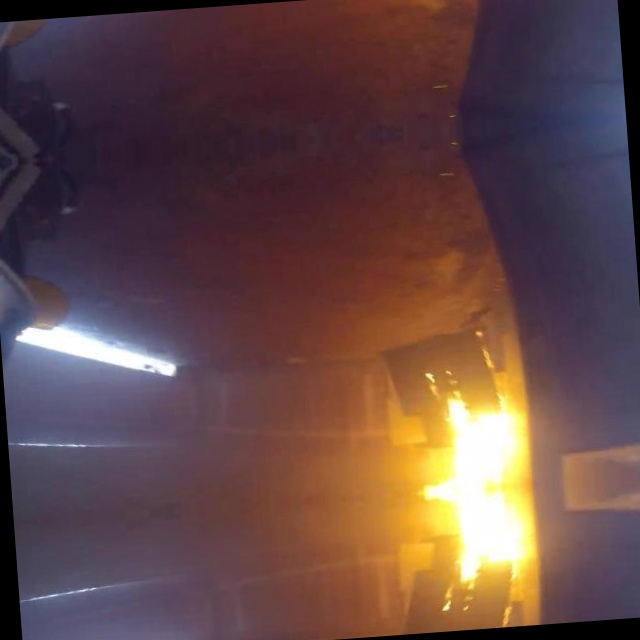fire: (393, 373, 568, 620)
